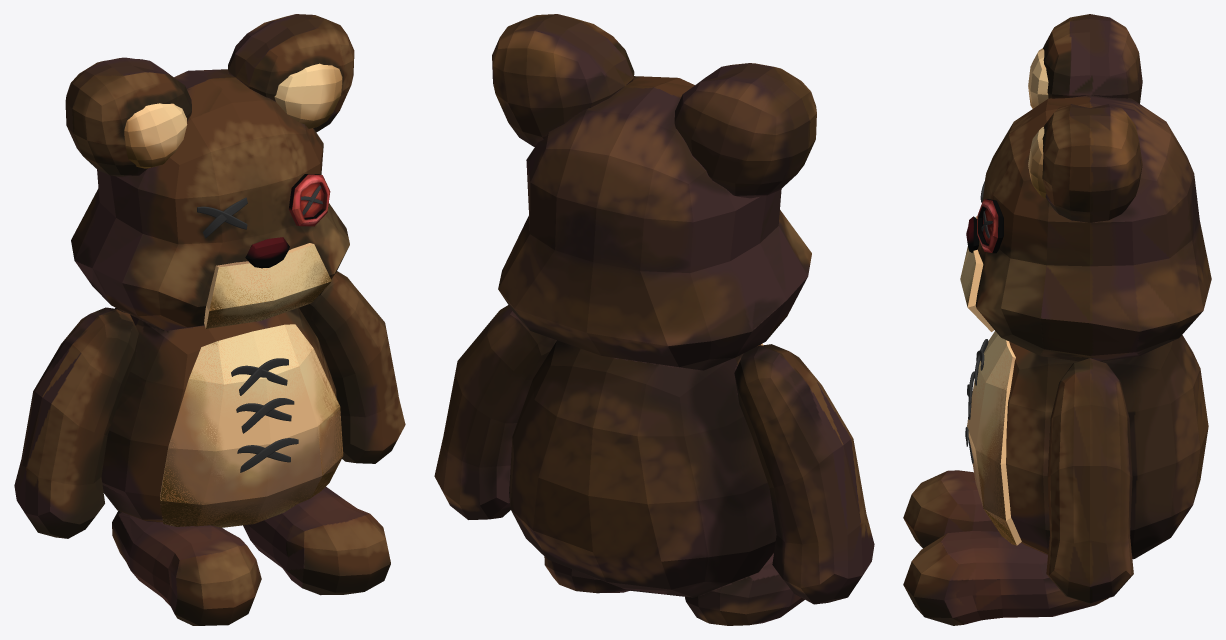
Rendered from horror spil bamse 2 3d.fbx.
3 views of the same model, side by side, from view 1: azimuth 30°, elevation 25°; view 2: azimuth 150°, elevation 25°; view 3: azimuth 270°, elevation 25° (orthographic). The views are drawn at different scales.
Visible parts, largest first — view 1: hoved, inderst øre, NurbsPath, næse; view 2: hoved; view 3: hoved, inderst øre, næse, NurbsPath.
Part boxes in pixels (box(x1,y1,x2,y2)): hoved: box(14, 14, 405, 625); inderst øre: box(124, 63, 343, 527); NurbsPath: box(197, 197, 298, 472); næse: box(245, 174, 330, 268); hoved: box(434, 14, 874, 625); hoved: box(903, 14, 1211, 625); inderst øre: box(960, 48, 1048, 545); næse: box(966, 199, 1003, 253); NurbsPath: box(965, 179, 988, 463).
Bounding box in the file's own units: 74.75 × 99.3 × 53.44.
Materials: 4 (3 with a texture image).
